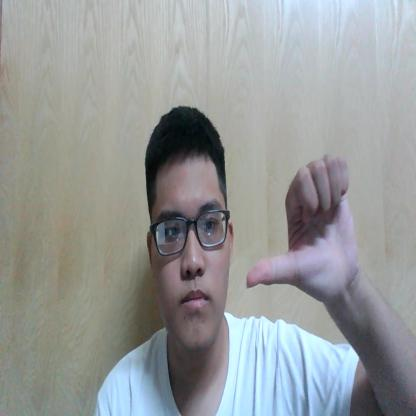right: (247, 152, 355, 310)
